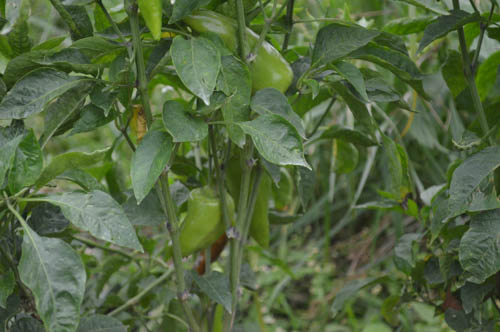ChiliPepper: (189, 14, 294, 100), (176, 189, 232, 263), (234, 160, 269, 247)
